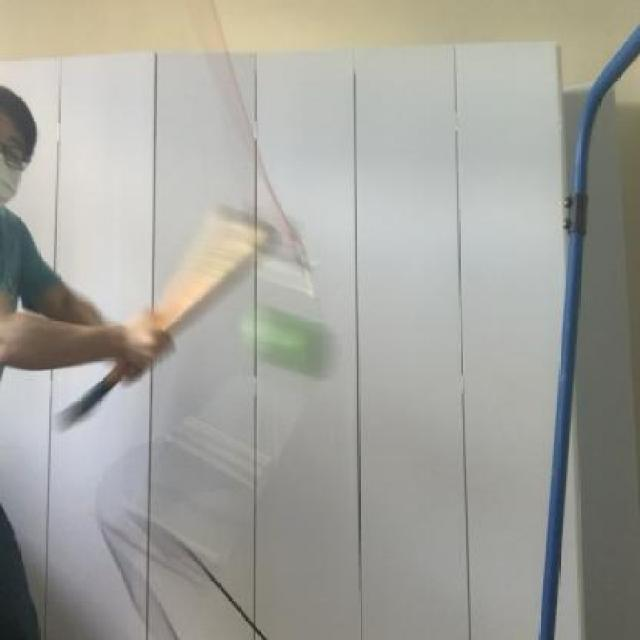baseball: (240, 292, 346, 388)
